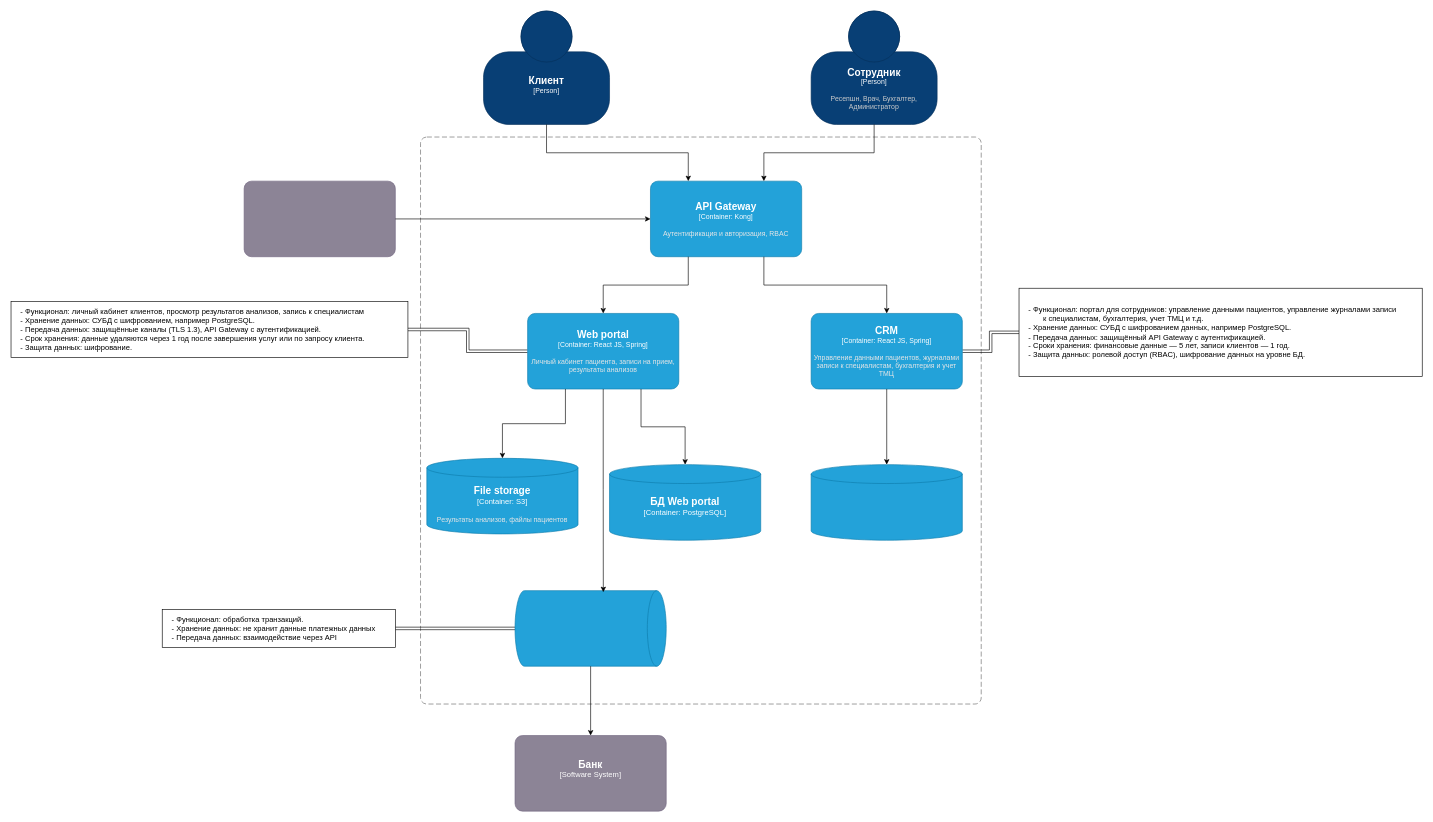
The diagram is 1433 pixels wide and 822 high, and some of its shapes have lost their labels. The shapes that lost their labels are listed below. From the top down, each one's box as (x1, y1, x2, y2) in pixels, then its label:
(243, 180, 395, 257): Лаборатория [Software System]
(420, 136, 981, 704): Медикаменте [Software System]
(810, 464, 962, 540): БД CRM [Container: PostgreSQL]
(514, 590, 666, 666): Payment service [Container: API] обработка транзакций
